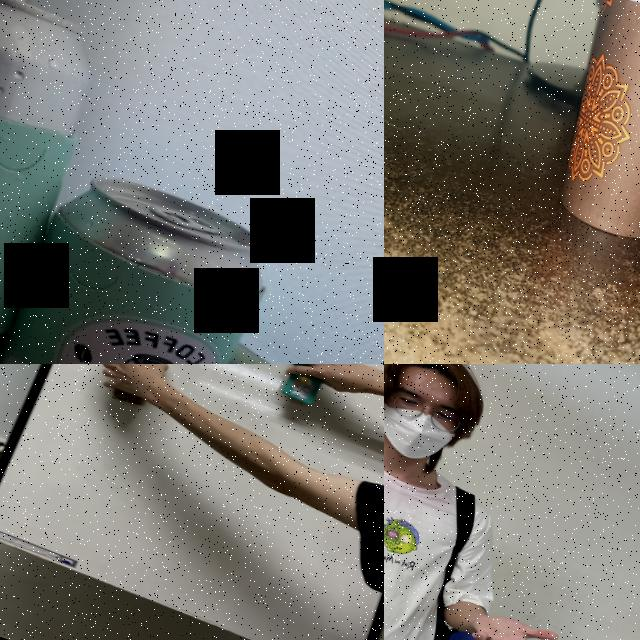can: (0, 157, 286, 364), (0, 0, 124, 364)
cup: (516, 0, 640, 267), (95, 364, 173, 411)
